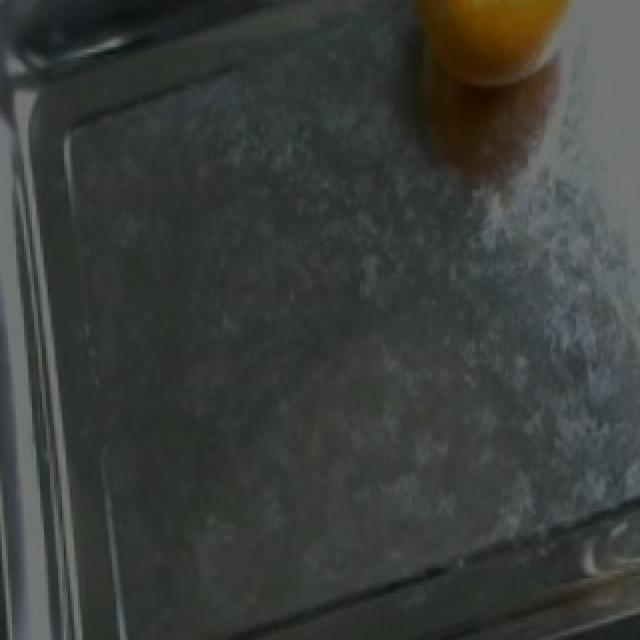Fruit: (368, 2, 608, 122)
